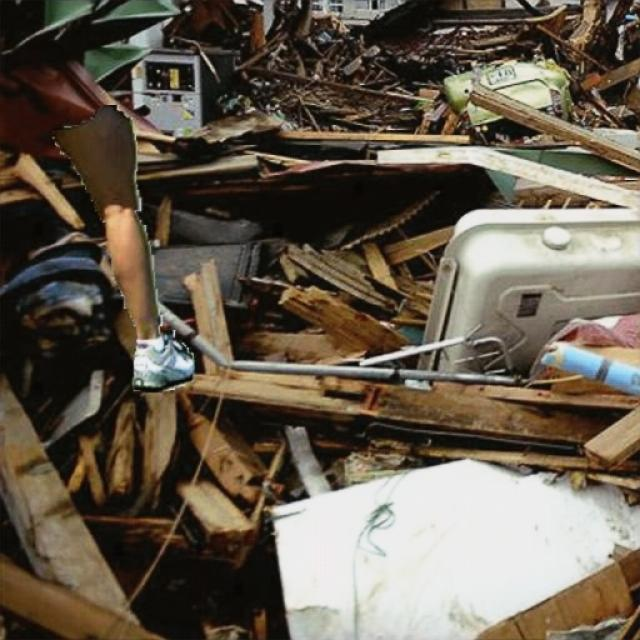Person in Rubble: (53, 105, 194, 391)
